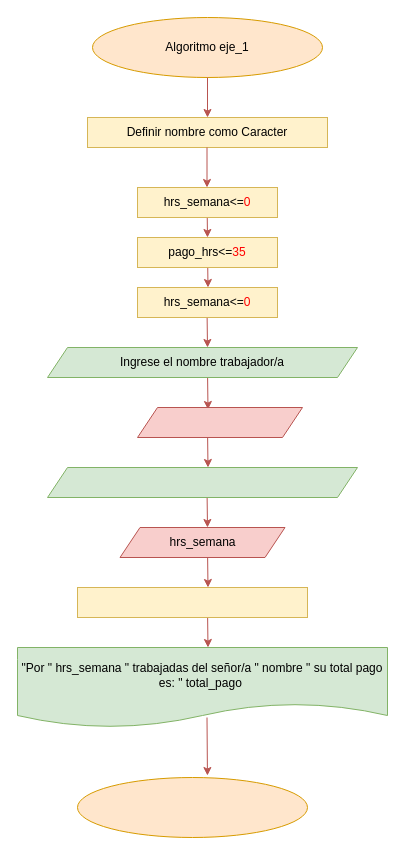
The diagram is 405 pixels wide and 855 high, and some of its shapes have lost their labels. The shapes that lost their labels are listed below. From the top down, each one's box as (x1, y1, x2, y2) in pixels, then its label:
(136, 406, 302, 438): nombre
(46, 466, 358, 498): Ingrese horas trabajadas a la semana
(76, 586, 308, 618): total_pago<=hrs_semana*pago_hrs
(76, 776, 308, 838): Fin_Algoritmo
